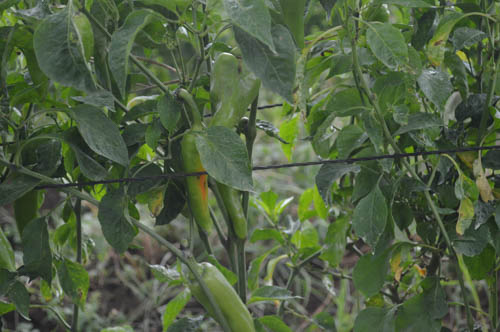ChiliPepper: (190, 266, 254, 331), (209, 74, 264, 132), (185, 132, 212, 235), (217, 177, 247, 237), (209, 52, 236, 99)
